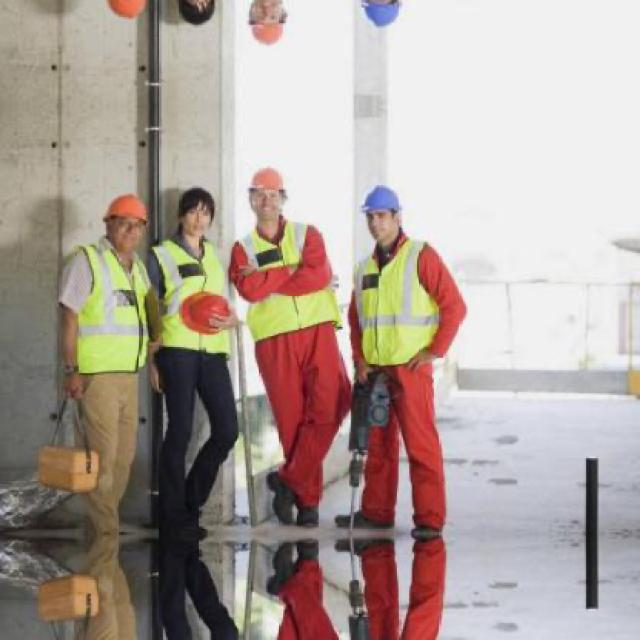con casco: (77, 166, 151, 308), (361, 176, 426, 300), (247, 145, 301, 241)
sin casco: (172, 168, 226, 258)
